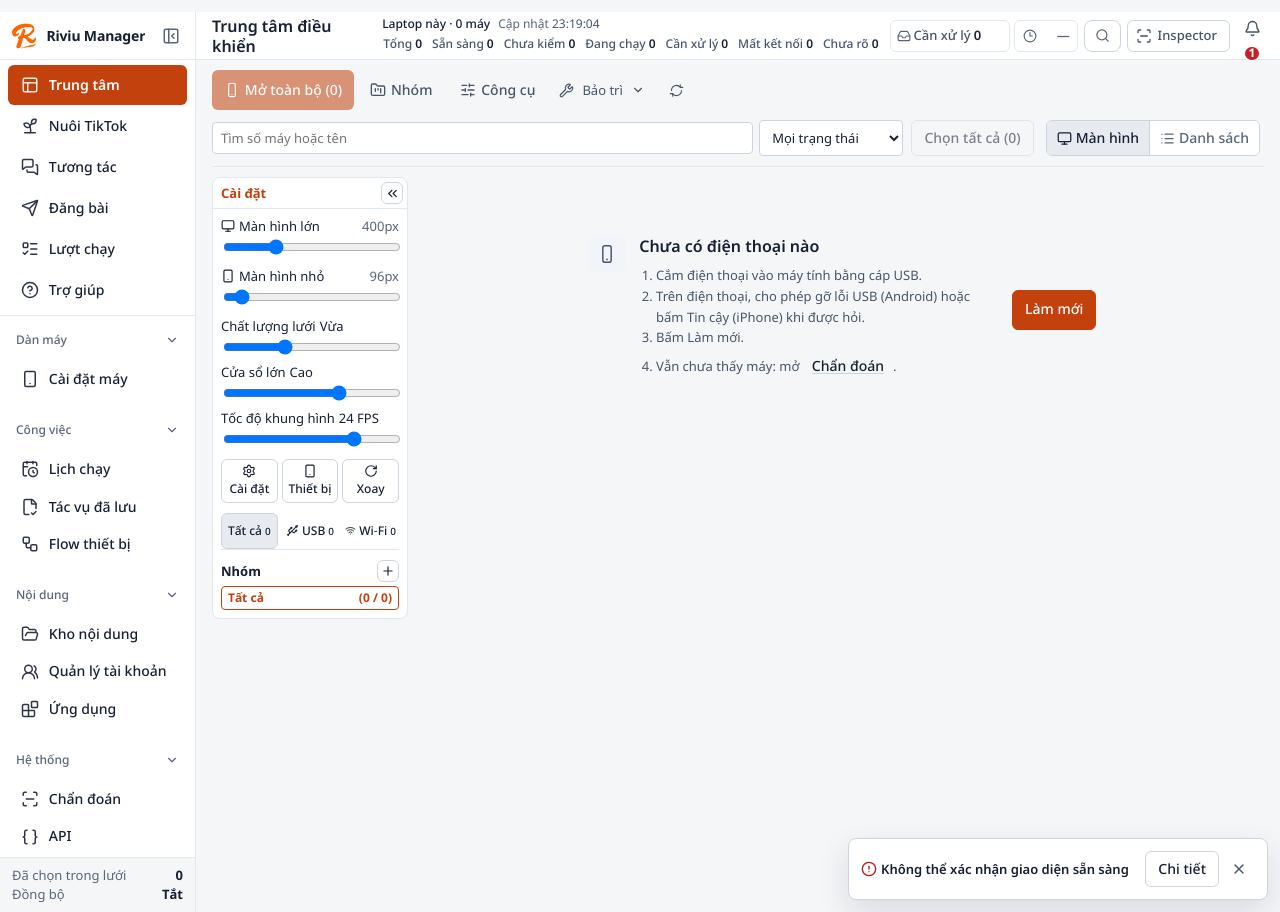
Scenario: toolbar Start › báo lỗi xác nhận frontend trong Hoạt động mà không retry hoặc chặn điều hướng
The image size is (1280, 912).
Expected: the text "Không thể xác nhận giao diện sẵn sàng" is shown, [881,860,1141,878]
Step 1. Click the button "API" → (98, 837), box [8,818,187,855]
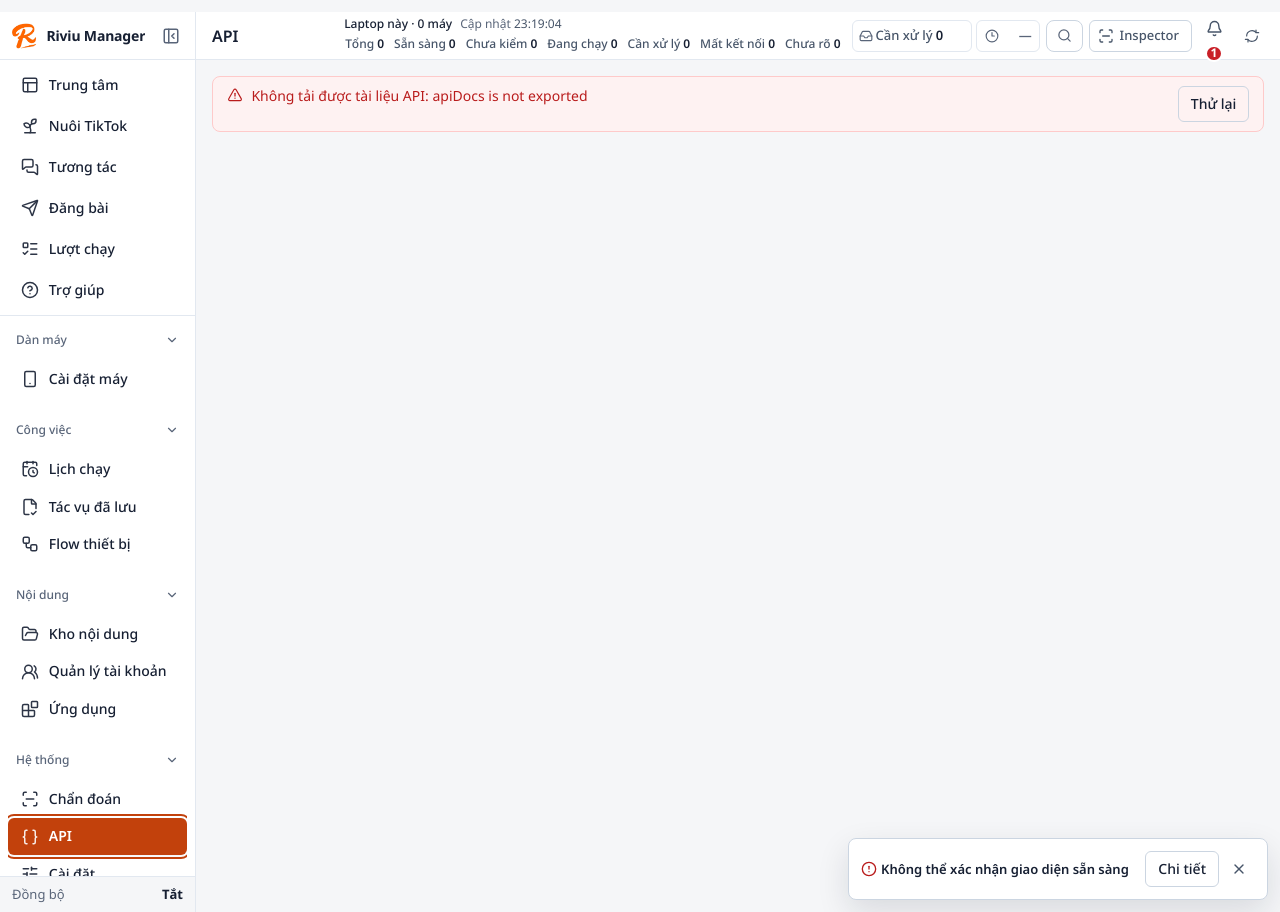
Expected: the heading "API" is shown, [212,26,238,46]
